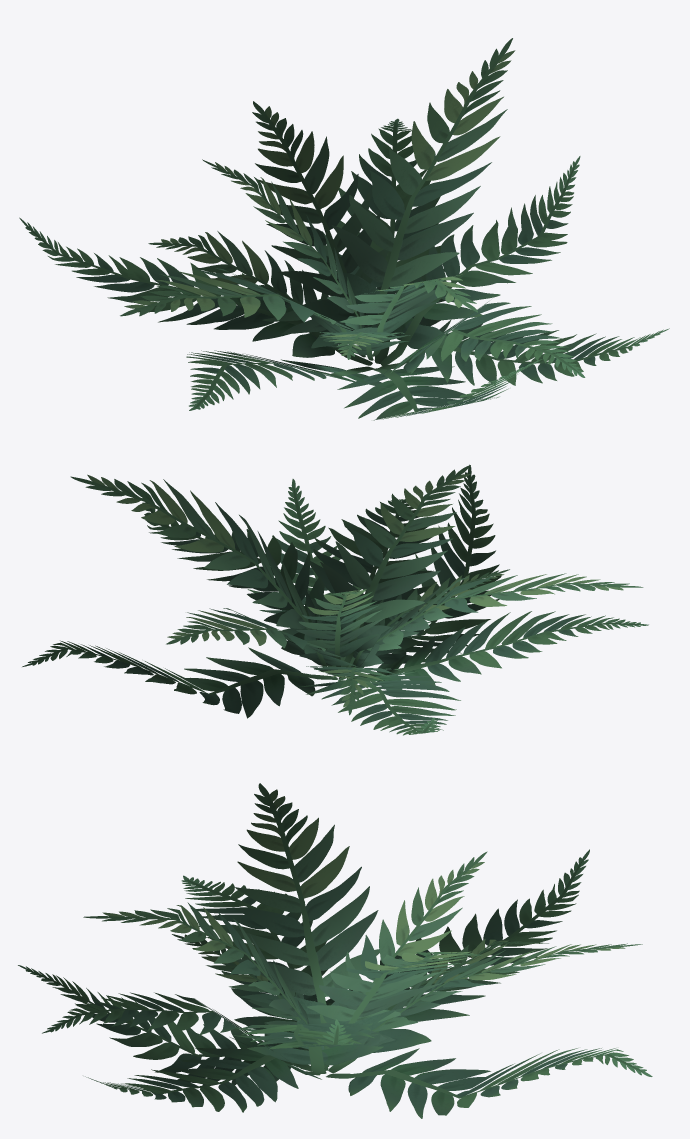
Rendered from fernBush_3.fbx.
3 views of the same model, one above another, from view 1: azimuth 30°, elevation 25°; view 2: azimuth 150°, elevation 25°; view 3: azimuth 270°, elevation 25° (orthographic). The views are drawn at different scales.
Parts seen in each view (by area): view 1: fernBush30; view 2: fernBush30; view 3: fernBush30.
Part boxes in pixels (box(x1,y1,x2,y2)): fernBush30: box(19, 38, 669, 420); fernBush30: box(22, 464, 648, 735); fernBush30: box(18, 783, 652, 1118).
Size of the model in its own units: 255 by 101 by 257.
Materials: 1 (1 with a texture image).
